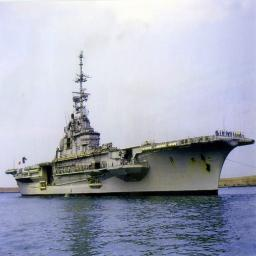Portanaves: (6, 51, 256, 200)
